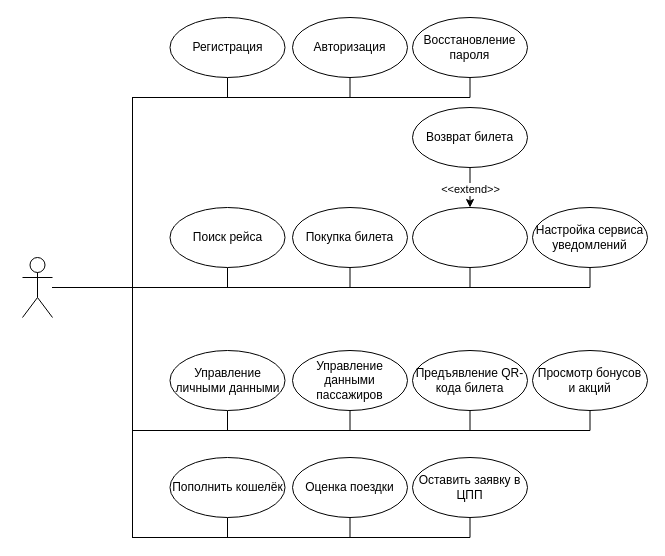
Image size: 665x556. Some labels were removed from this diagram. The centre of each missing label's shape, as x and y in pixels:
"Клиент" goes at point (37, 287).
"Управление билетами" goes at point (470, 237).
